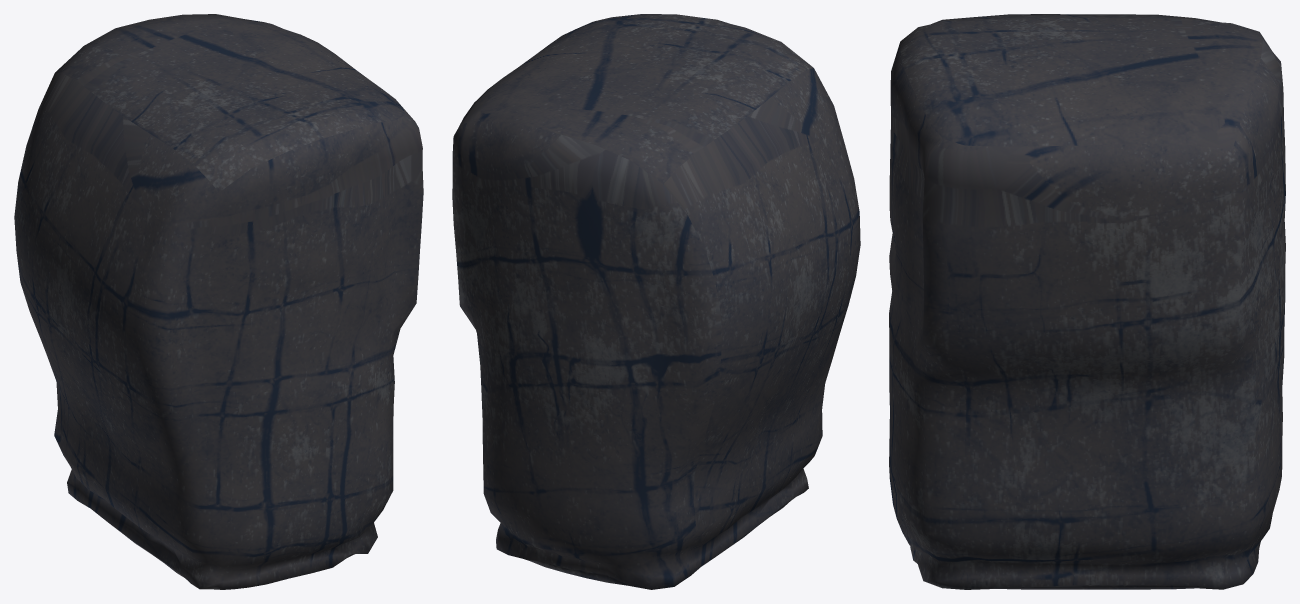
Rendered from obstacle_grand2.OBJ.
3 views of the same model, side by side, from view 1: azimuth 30°, elevation 25°; view 2: azimuth 150°, elevation 25°; view 3: azimuth 270°, elevation 25° (orthographic). The views are drawn at different scales.
Visible parts, largest first — view 1: obstacle_grand2:Group18456; view 2: obstacle_grand2:Group18456; view 3: obstacle_grand2:Group18456.
Part boxes in pixels (x1,y1,x2,y2): obstacle_grand2:Group18456: [14, 14, 423, 589]; obstacle_grand2:Group18456: [452, 14, 860, 589]; obstacle_grand2:Group18456: [889, 14, 1285, 589].
Size of the model in its own units: 2381 by 3331 by 2426.
Materials: 1 (1 with a texture image).
